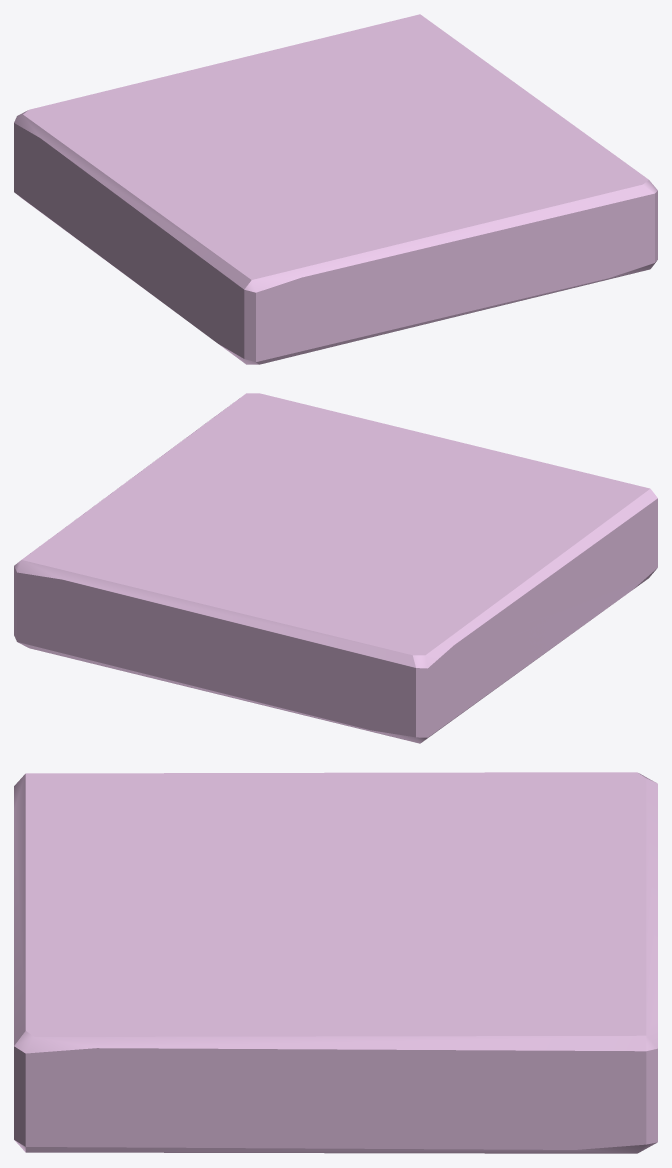
The model's file is Ground2.fbx.
3 renders of one model, top to bottom at view 1: azimuth 30°, elevation 25°; view 2: azimuth 150°, elevation 25°; view 3: azimuth 270°, elevation 25°, orthographic. The views are drawn at different scales.
Parts seen in each view (by area): view 1: Floor:pCube1; view 2: Floor:pCube1; view 3: Floor:pCube1.
Part boxes in pixels (bbox=[...]): Floor:pCube1: bbox=[14, 14, 657, 364]; Floor:pCube1: bbox=[14, 393, 657, 743]; Floor:pCube1: bbox=[14, 772, 657, 1153].
Size of the model in its own units: 1 by 0.2 by 1.
